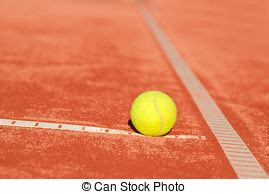tennis_ball: (129, 90, 177, 137)
